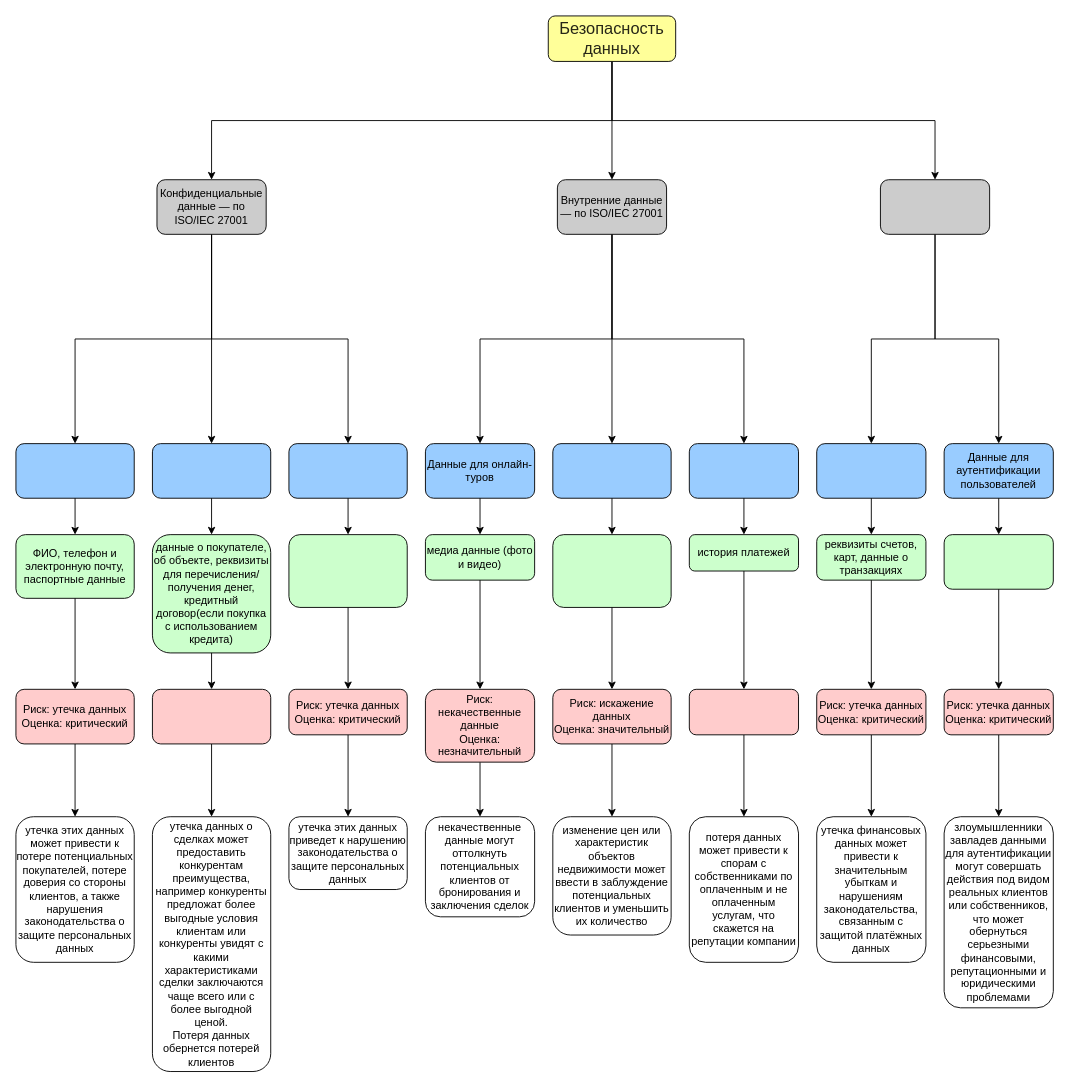
Image size: 1069x1087. Some labels were removed from this diagram. Here are the shapes that lost their labels. From the top down, the box of each, then its label:
(880, 179, 990, 234): Секретные данные — по ISO/IEC 27001
(15, 443, 134, 498): Данные клиентов
(152, 443, 271, 498): Данные о бронировании и сделкам по объектам недвижимости
(288, 443, 407, 498): Данные собственников
(552, 443, 671, 498): Данные об объектах недвижимости
(688, 443, 799, 498): Данные по услугам ЖКХ для собственников
(816, 443, 926, 498): Финансовые данные
(288, 534, 407, 607): ФИО, телефон и электронную почту, паспортные данные, адрес объекта недвижимости
(552, 534, 671, 607): физические параметры, инфраструктура, расположение, стоимость
(943, 534, 1053, 589): логин, пароль, данные для двухфакторной аутентификации
(152, 688, 271, 744): Риск: утечка данных, потеря данных Оценка: значительный
(688, 688, 799, 735): Риск: потеря данных Оценка: значительный
